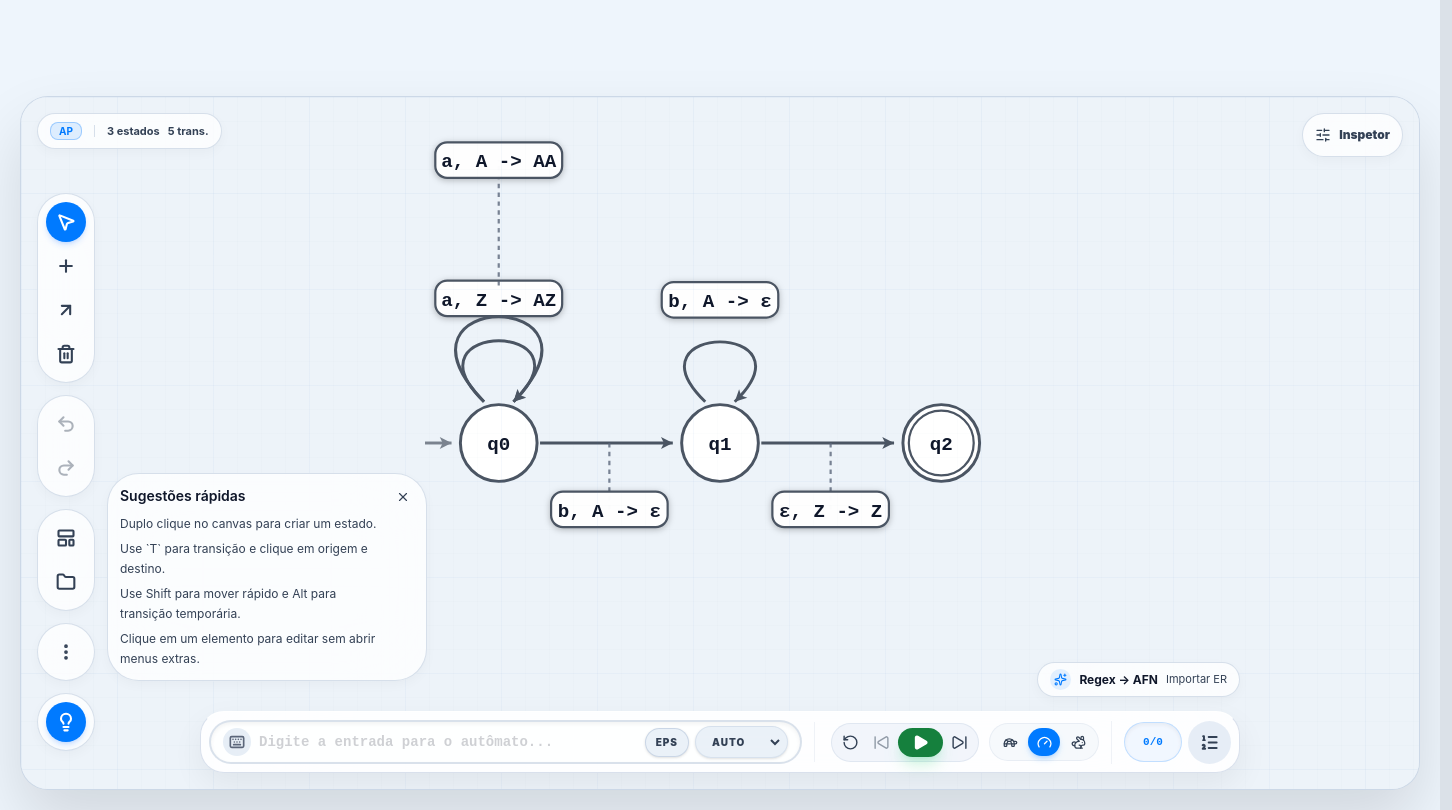
Test: SimulatorPage layout › mantém a pilha do AP em um widget flutuante separado do player no desktop
Type "aabb" into the field with placeholder "Digite a entrada para o autômato..." at (448, 742), box [259, 724, 637, 760]
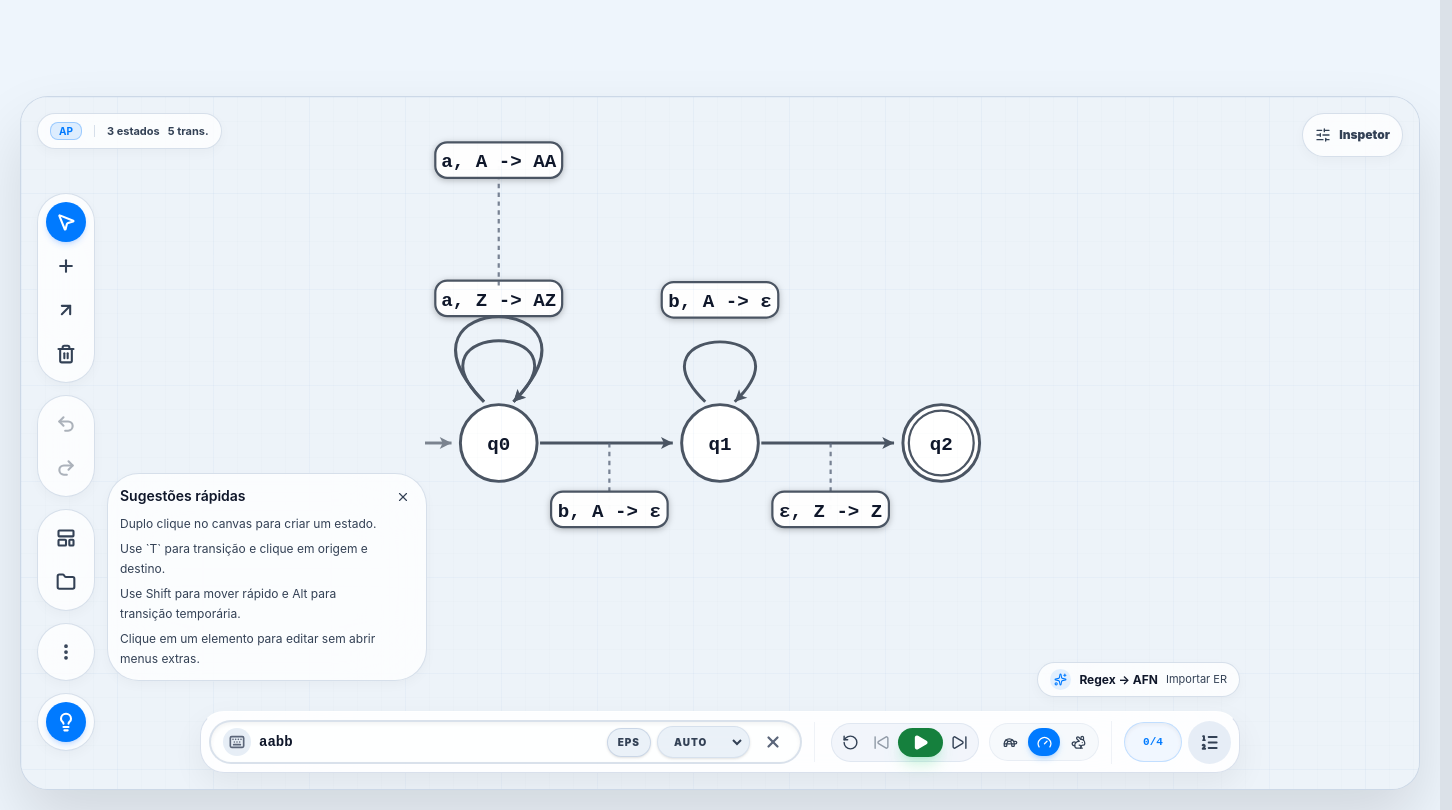
Click the button named "Iniciar simulação" at (920, 742), box [898, 728, 943, 756]
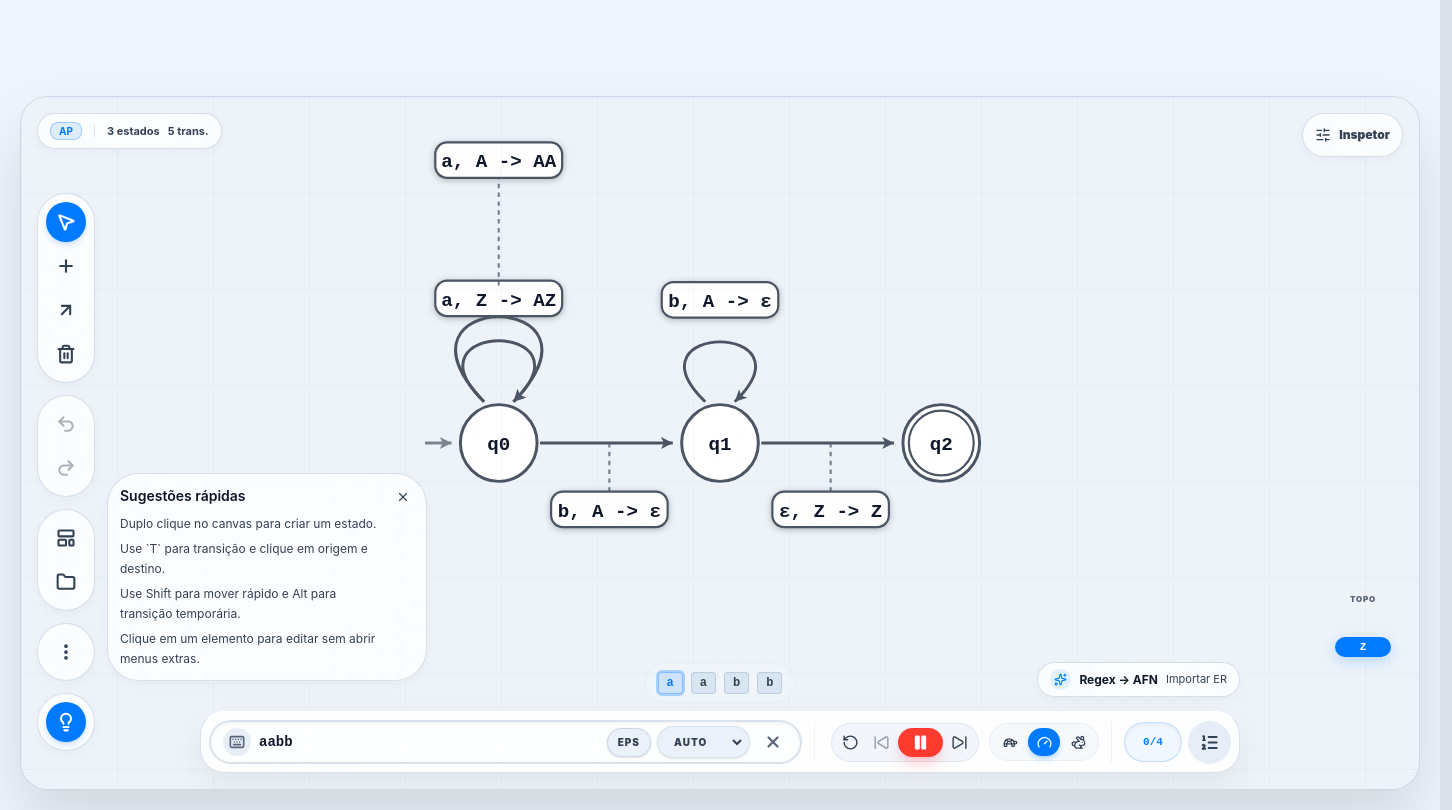
Check: the element with test id "pda-stack-widget" is shown, box [1331, 589, 1395, 661]
Check: the element with test id "pda-input-rail" is shown, box [645, 663, 795, 703]
